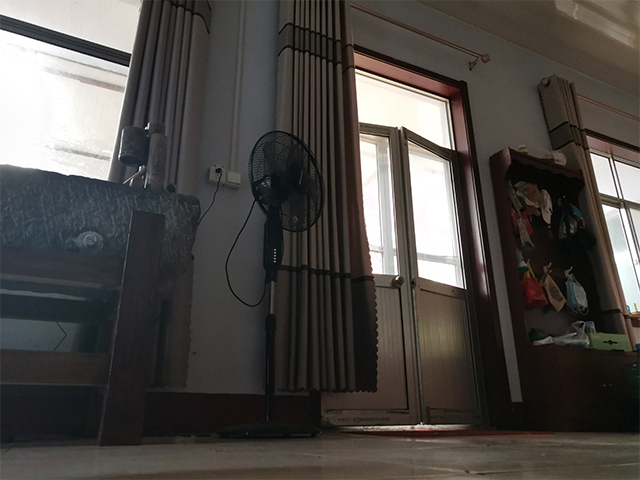cabinet: (486, 146, 640, 433)
carpet: (340, 428, 560, 439)
curtain: (272, 1, 379, 399)
